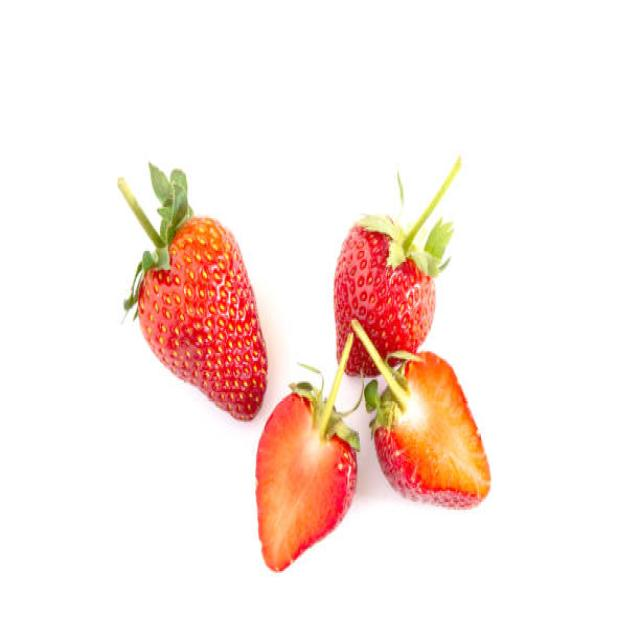Healthy Fruit: (137, 217, 268, 423), (371, 353, 491, 508), (255, 391, 357, 572), (333, 225, 435, 376)
